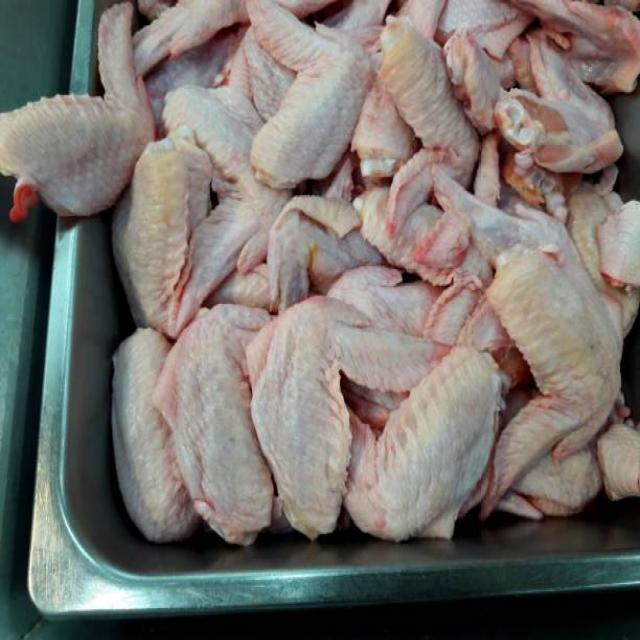chicken wing: (254, 291, 442, 524), (483, 228, 621, 494), (0, 2, 153, 224), (247, 0, 367, 194)
